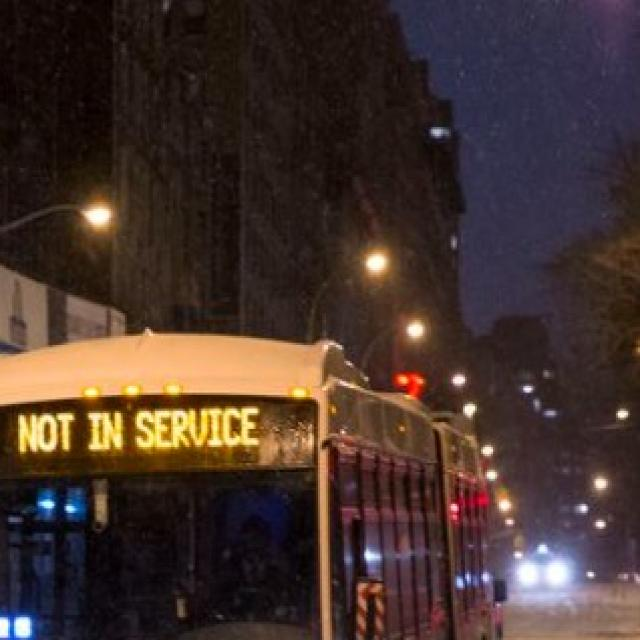bus: (0, 327, 503, 640)
car: (516, 539, 572, 595)
